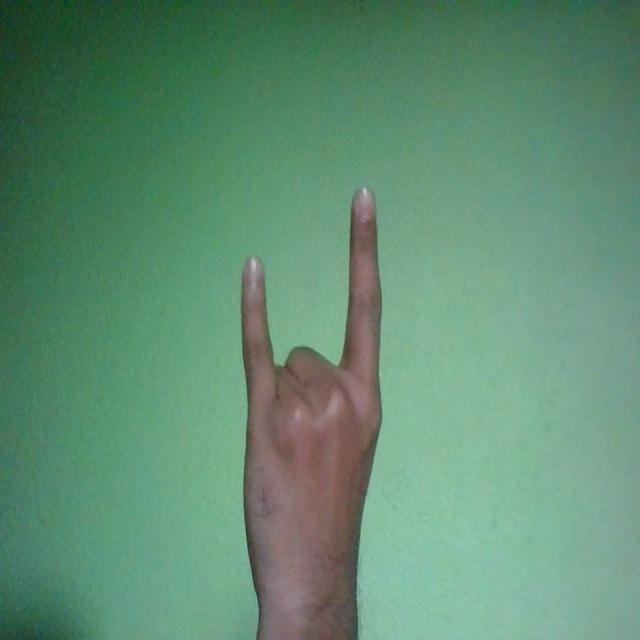open Plam: (240, 187, 384, 624)
